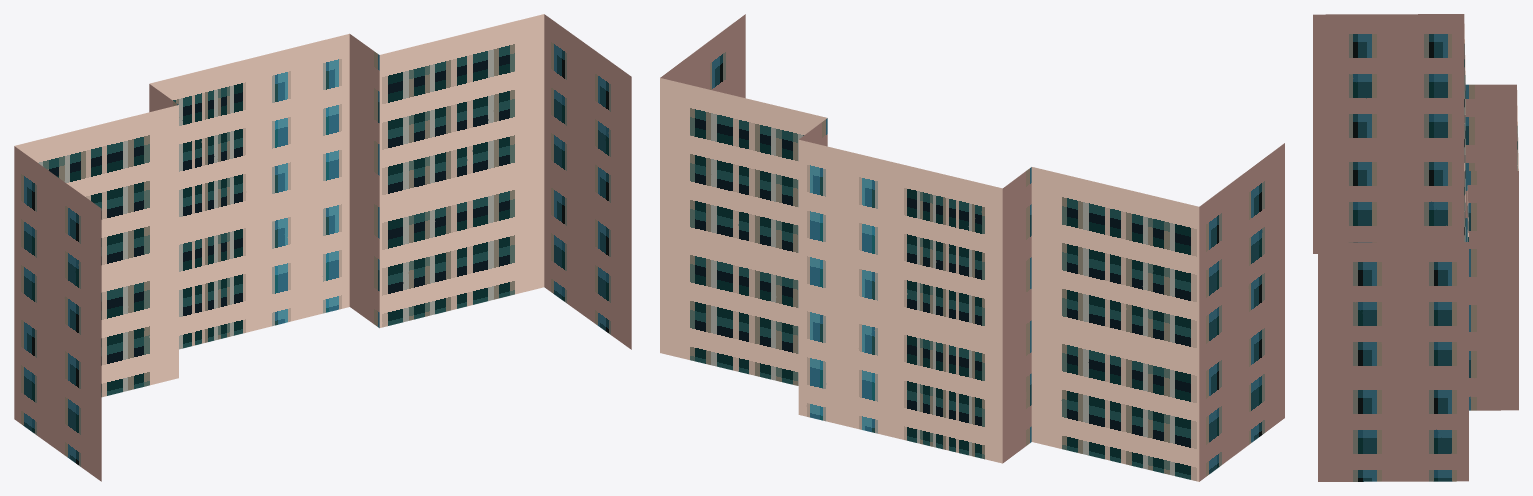
3 renders of one model, left to right at view 1: azimuth 30°, elevation 25°; view 2: azimuth 150°, elevation 25°; view 3: azimuth 270°, elevation 25°, orthographic. The views are drawn at different scales.
Visible parts, largest first — view 1: obj-123; view 2: obj-123; view 3: obj-123.
Part boxes in pixels (x1=…): obj-123: x1=14, y1=14, x2=631, y2=481; obj-123: x1=660, y1=14, x2=1284, y2=481; obj-123: x1=1313, y1=14, x2=1518, y2=481.
Size of the model in its own units: 4.91 by 2.4 by 1.87.
1 material, 1 textured.
